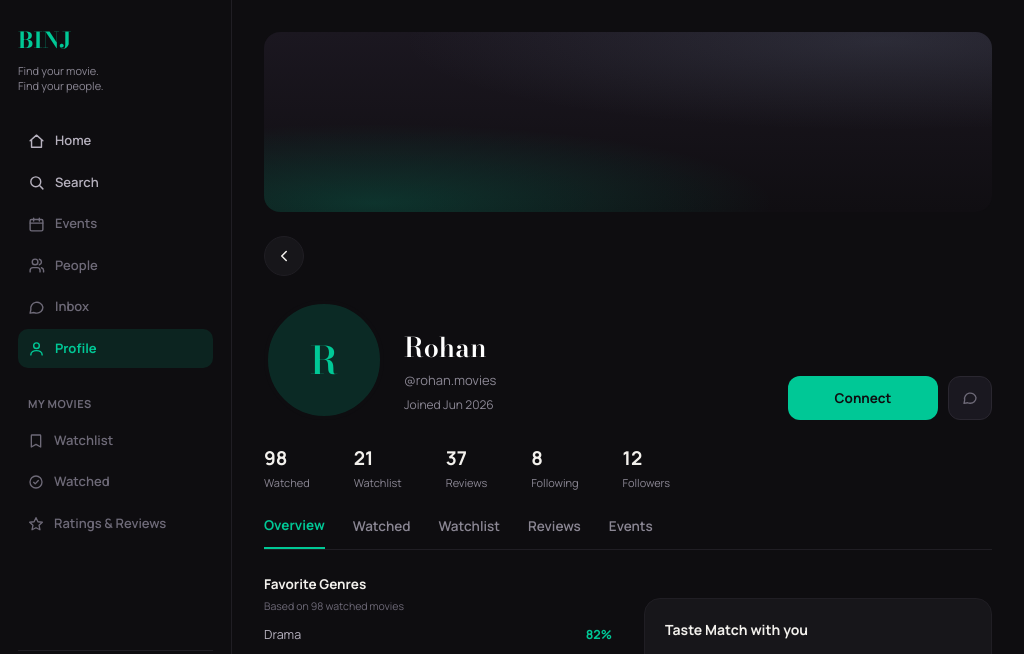
Scenario: Profile › shows a Connect button and follows on click
The image size is (1024, 654).
Click the button "Connect" at (863, 398), box [788,376,938,420]
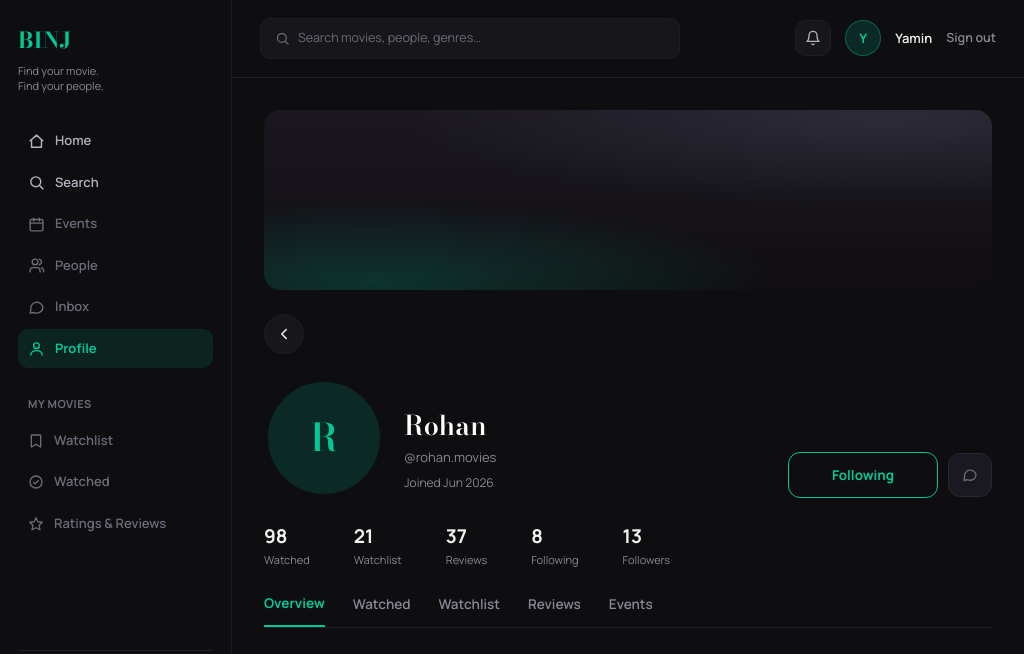
Check: the button "Following" is shown, box [788,452,938,498]
